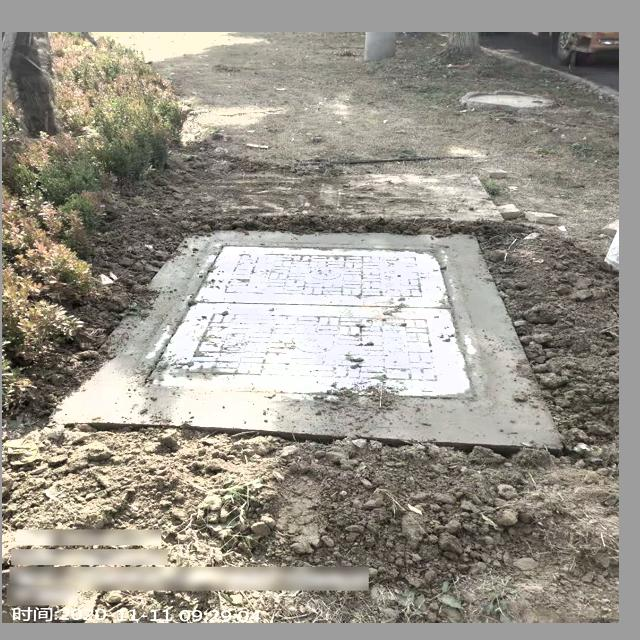good: (79, 219, 554, 425)
